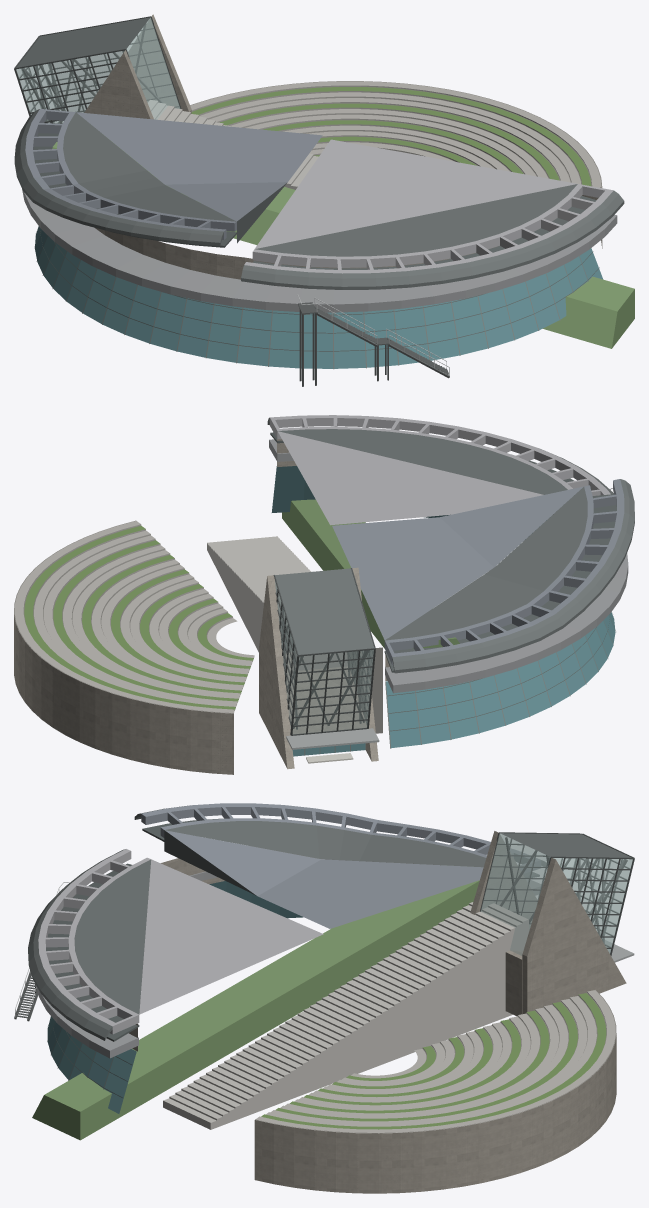
3 views of the same model, one above another, from view 1: azimuth 30°, elevation 25°; view 2: azimuth 150°, elevation 25°; view 3: azimuth 270°, elevation 25° (orthographic). The views are drawn at different scales.
Visible parts, largest first — view 1: tele__roof-metal-eave, tele__glass, tele__roof-metal-south, tele__roof-metal-north, tele__seat, tele__eave-low, tele__concrete-wall, tele__seat-grass, tele__tower-glass, tele__green-roof, tele__tower-mullion, tele__seat-edge (+5 smaller); view 2: tele__roof-metal-eave, tele__roof-metal-north, tele__concrete-wall, tele__seat, tele__roof-metal-south, tele__glass, tele__seat-grass, tele__tower-glass, tele__stair-stone, tele__eave-low, tele__tower-mullion, tele__green-roof (+5 smaller); view 3: tele__concrete-wall, tele__stair-stone, tele__green-roof, tele__roof-metal-south, tele__roof-metal-eave, tele__roof-metal-north, tele__seat, tele__seat-grass, tele__tower-glass, tele__tower-mullion, tele__glass, tele__roof-metal-under (+3 smaller).
Part boxes in pixels (x1,y1,x2,y2): tele__roof-metal-eave: (14,17,624,289); tele__glass: (35,226,603,368); tele__roof-metal-south: (244,139,613,273); tele__roof-metal-north: (25,108,322,239); tele__seat: (190,81,601,187); tele__eave-low: (22,189,617,312); tele__concrete-wall: (84,14,602,279); tele__seat-grass: (191,87,591,185); tele__tower-glass: (16,17,180,123); tele__green-roof: (52,142,634,348); tele__tower-mullion: (14,16,181,123); tele__seat-edge: (190,81,602,186); tele__roof-metal-eave: (267,418,634,673); tele__roof-metal-north: (332,479,624,665); tele__concrete-wall: (14,439,553,774); tele__seat: (14,521,254,713); tele__roof-metal-south: (269,415,610,525); tele__glass: (271,466,615,756); tele__seat-grass: (24,525,253,709); tele__tower-glass: (275,581,373,734); tele__stair-stone: (207,536,347,670); tele__eave-low: (269,439,628,693); tele__tower-mullion: (273,568,375,735); tele__green-roof: (282,499,459,648); tele__concrete-wall: (129,831,626,1193); tele__stair-stone: (163,902,528,1129); tele__green-roof: (32,880,479,1140); tele__roof-metal-south: (38,849,323,1034); tele__roof-metal-eave: (28,805,631,1040); tele__roof-metal-north: (141,803,540,928); tele__seat: (255,990,615,1133); tele__seat-grass: (261,993,606,1129); tele__tower-glass: (481,833,632,955); tele__tower-mullion: (480,832,634,955); tele__glass: (47,881,303,1113); tele__roof-metal-under: (46,818,539,1041).
Size of the model in its own units: 65.81 by 22.6 by 68.83.
Materials: 20 (1 with a texture image).
